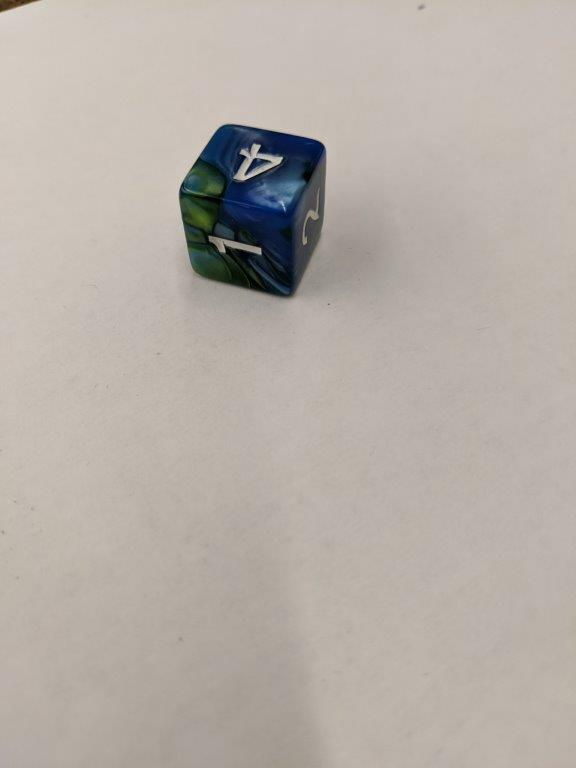d6-4: (179, 122, 329, 301)
